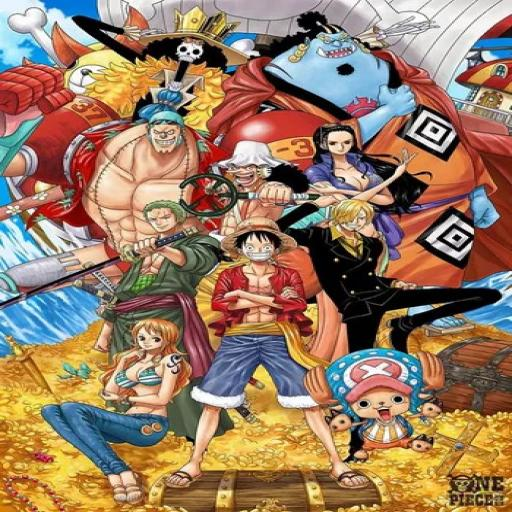Luffy: (200, 228, 323, 478)
Nami: (50, 324, 186, 500)
NicoRobin: (294, 112, 418, 198)
Zoro: (92, 198, 220, 308)
sanji: (315, 189, 462, 332)
